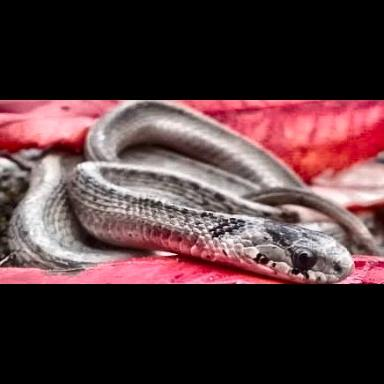snake: (0, 99, 379, 299)
